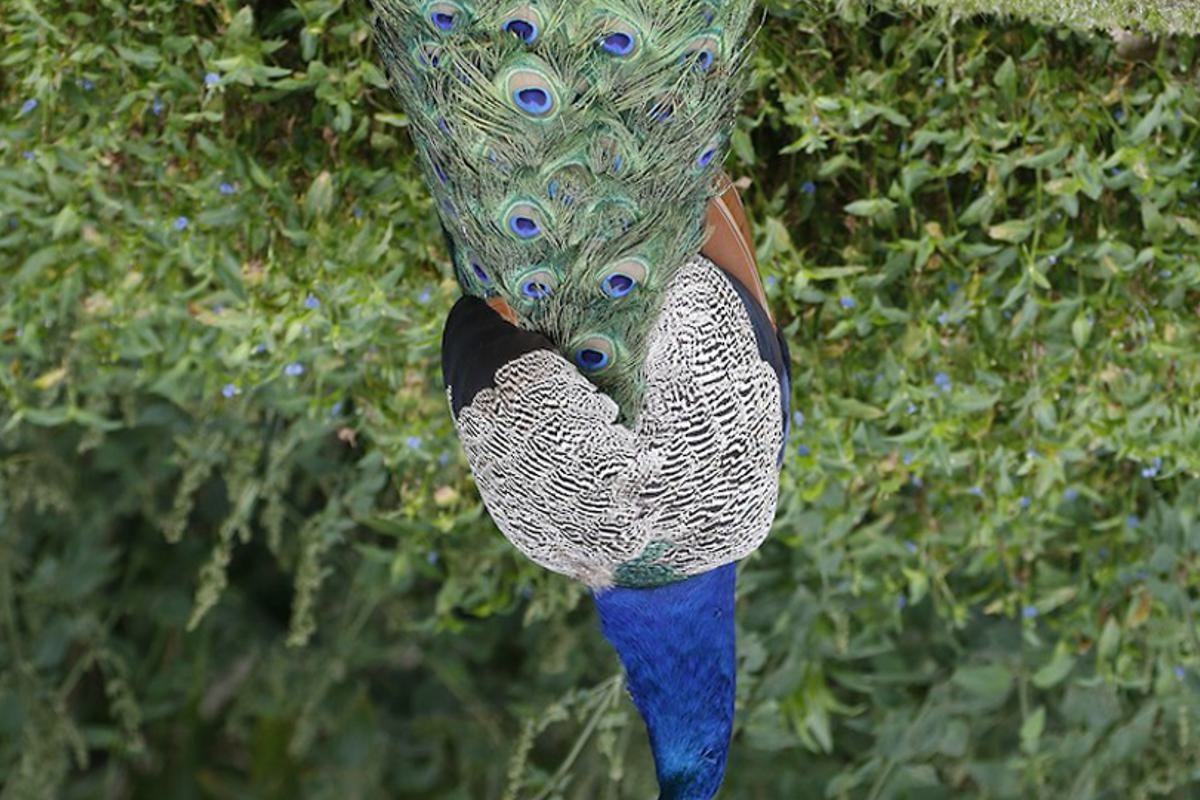peacock: (446, 1, 786, 756)
